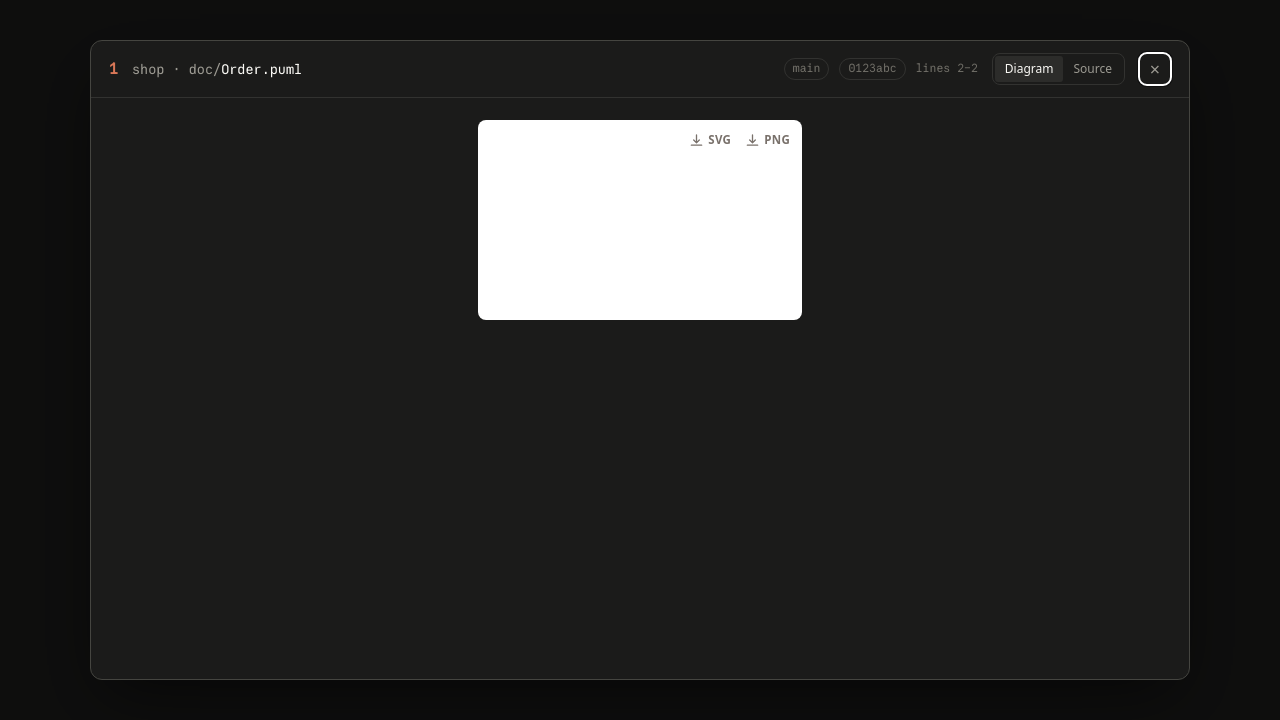
Test: SourceView on a PlantUML file › downloads › takes a picture away as a PNG, and says so when it cannot
Click the button with aria-label "Diagram: download PNG".
click(768, 140)  # box [739,126,796,154]
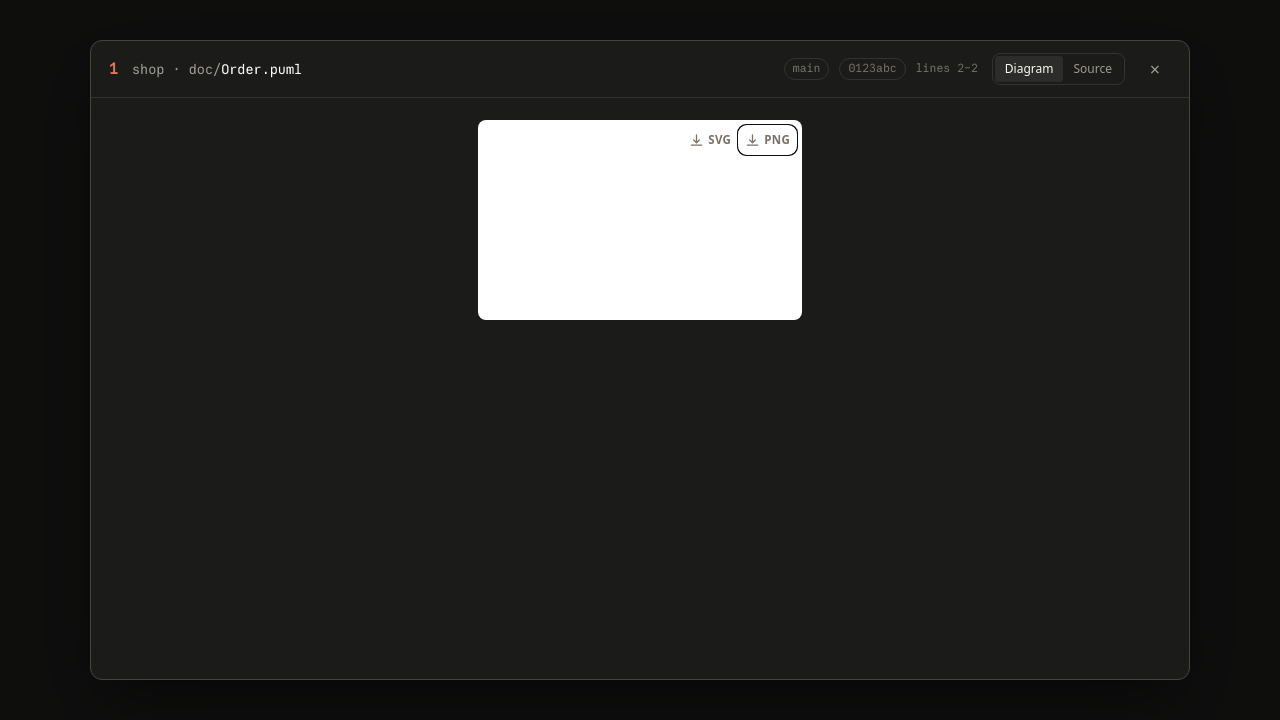
Click the button with aria-label "Diagram: download PNG".
click(768, 140)  # box [739,126,796,154]
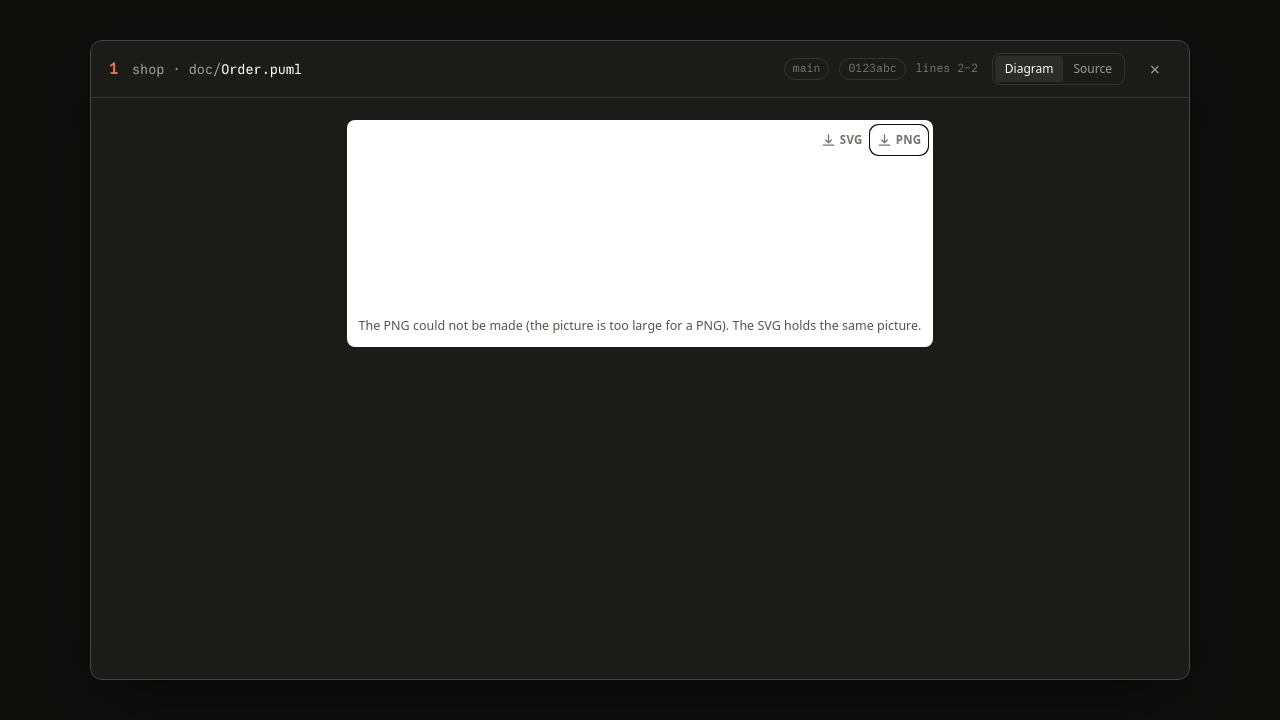
Expected: the message shows "too large for a PNG", [530,317,722,334]
